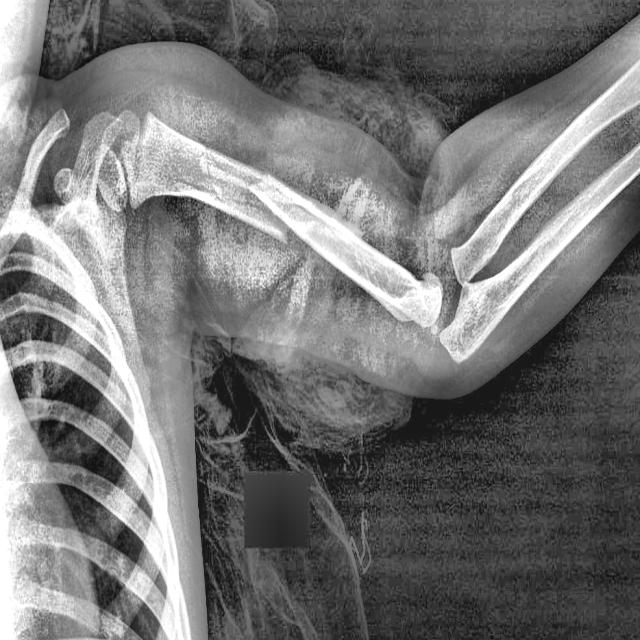messed_up_angle: (193, 140, 302, 250)
